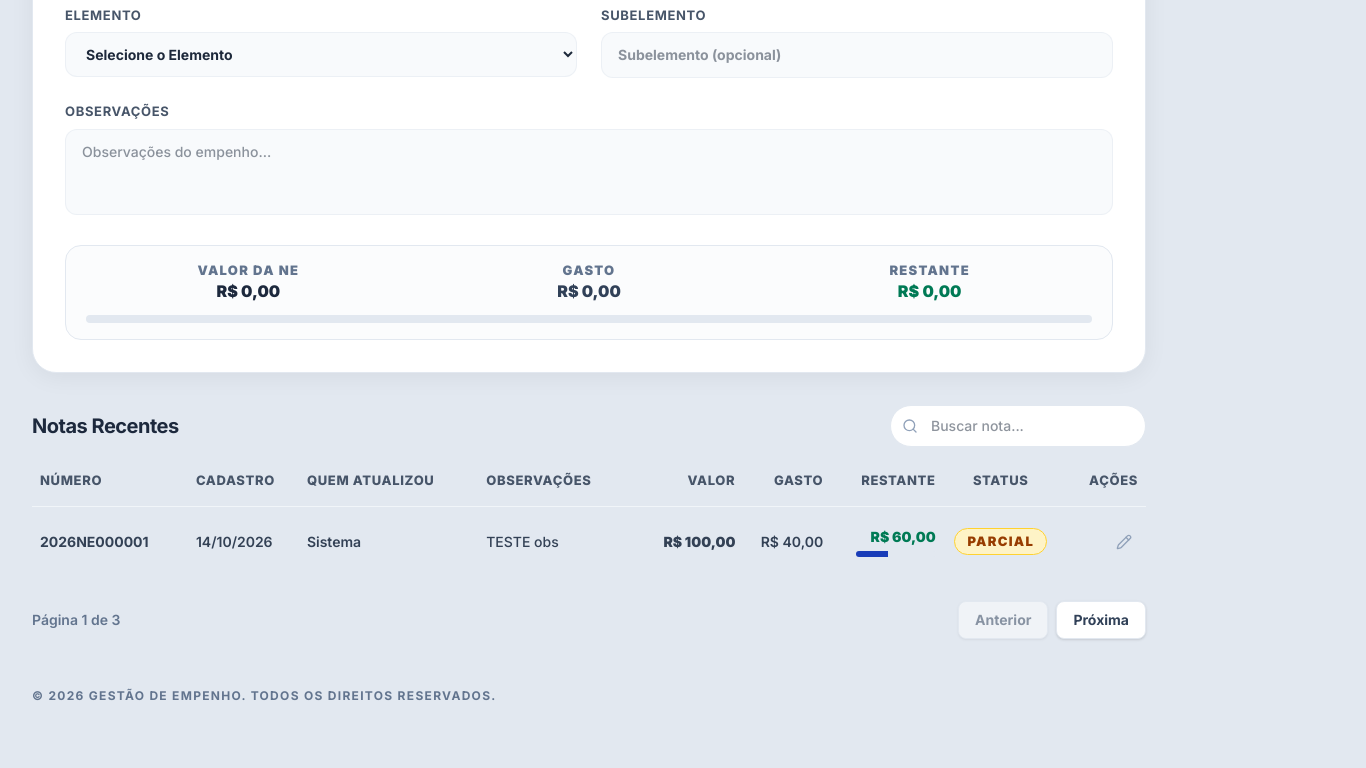
Test: Notas de Empenho — revisão da aba 3 › N1: "Cancelar NE" pede confirmação; "Voltar" não cancela
This screenshot has width=1366, height=768.
(page scrolled)
Click the button titled "Editar".
click(1124, 542)  # box [1110,528,1138,556]
(page scrolled)
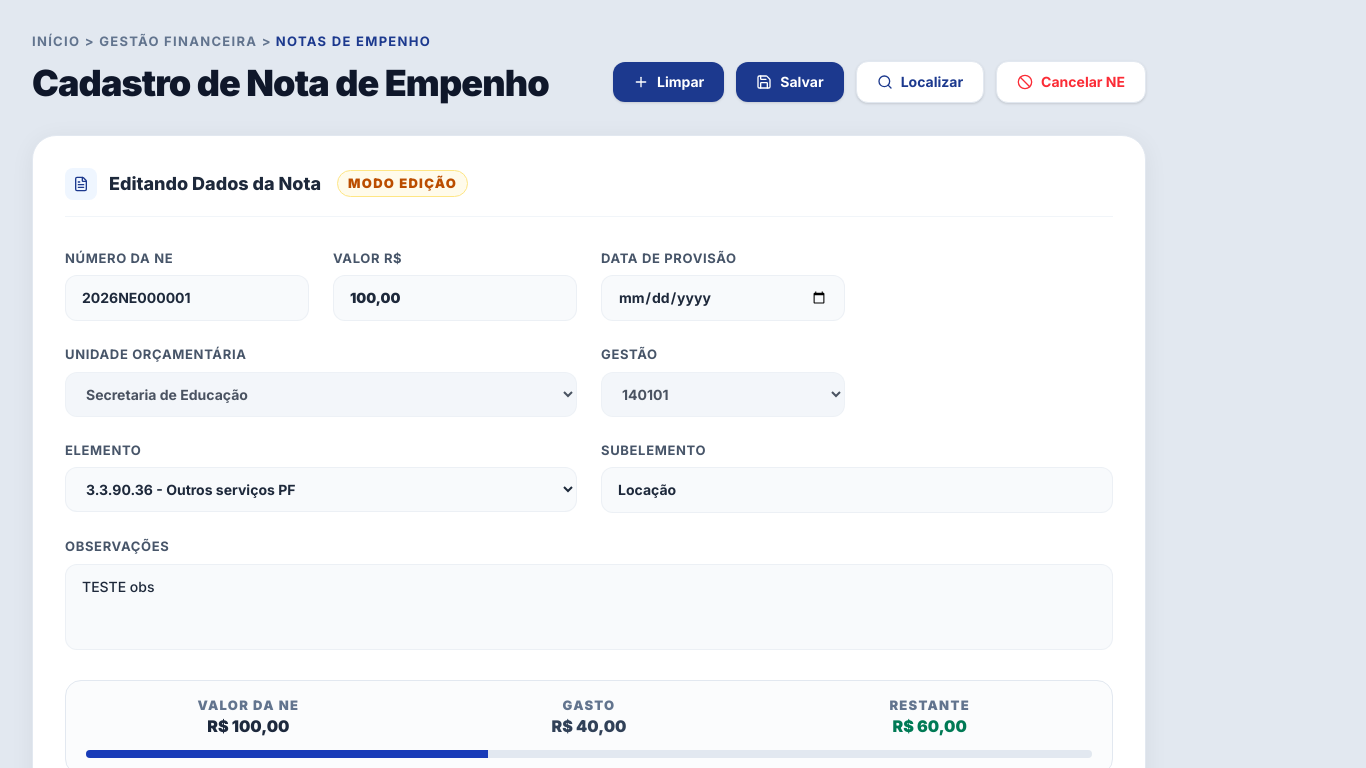
Click the button "Cancelar NE".
click(1071, 82)  # box [996,61,1146,103]
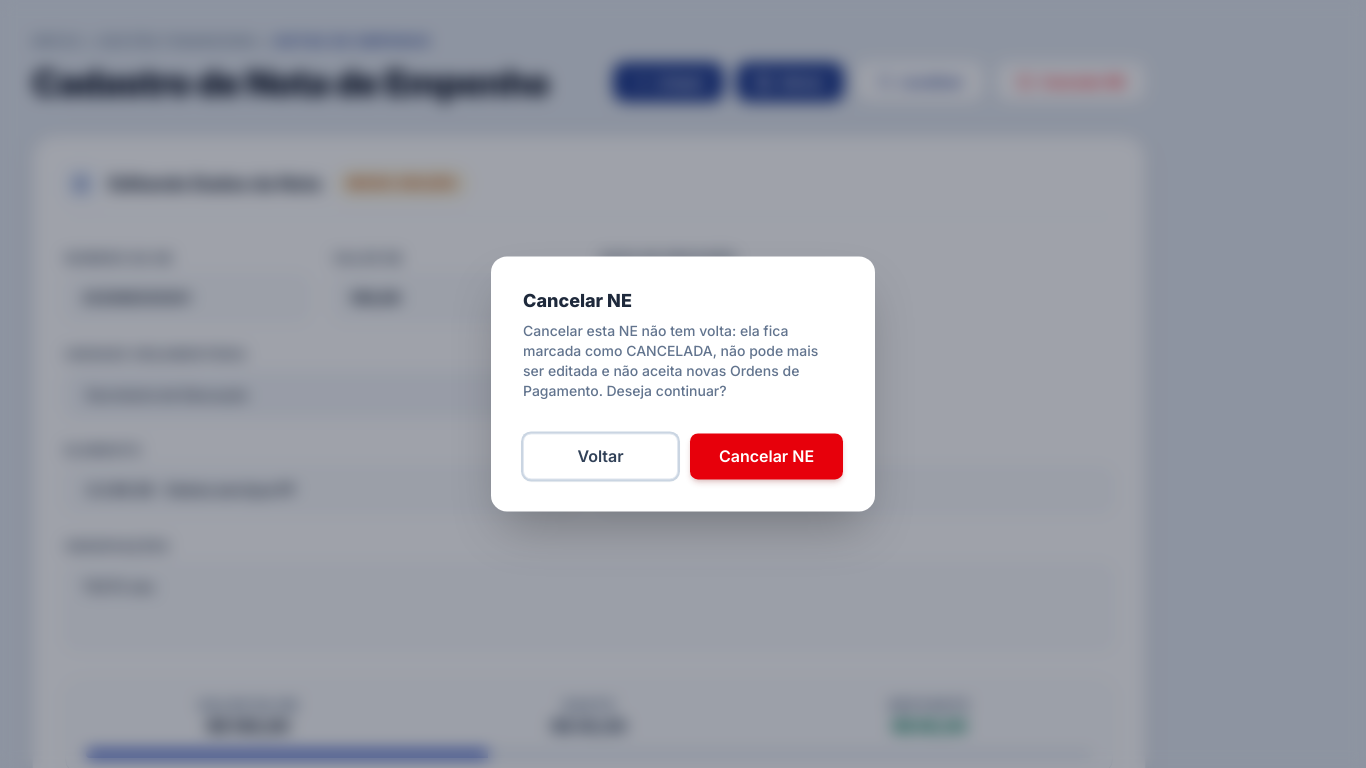
Now the dialog shows "não tem volta", box [523,323,818,400]
Click the button "Voltar".
click(600, 457)  # box [523,434,678,480]
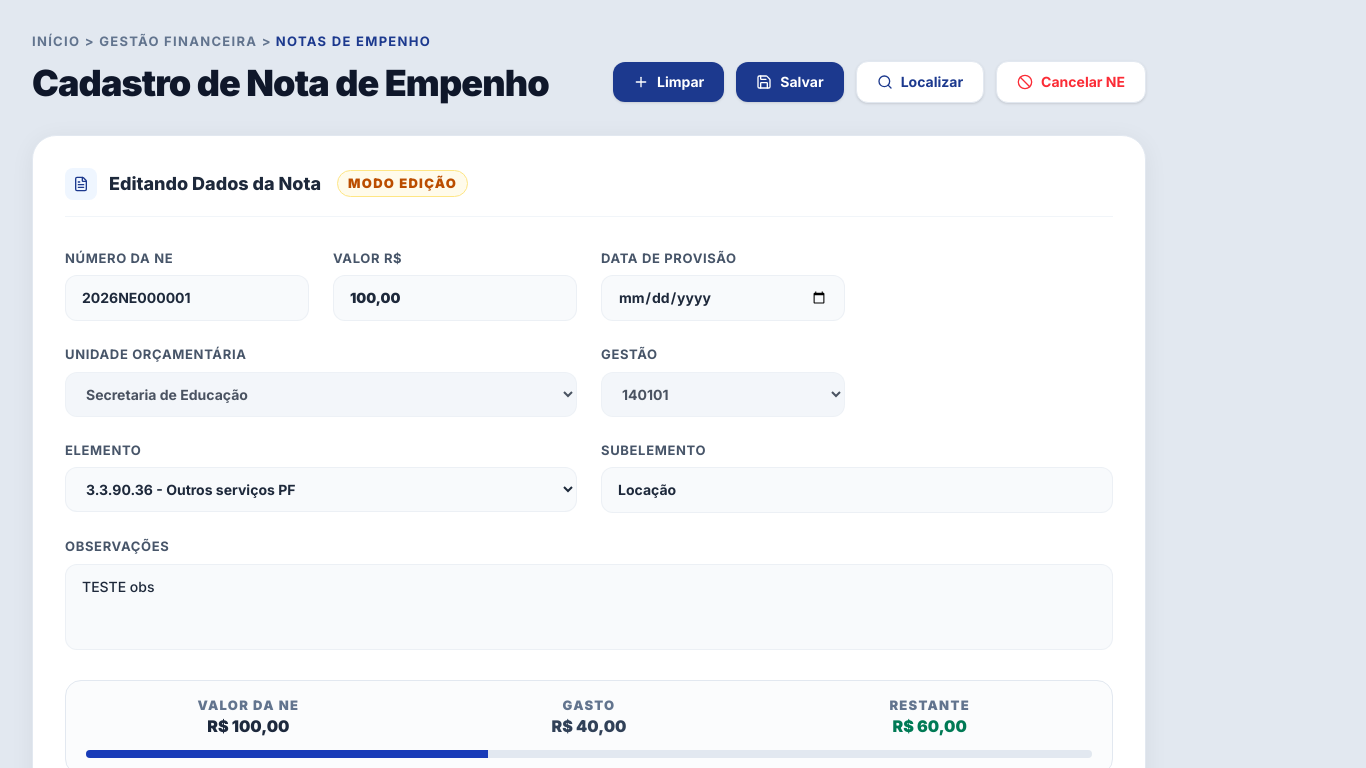
Now the dialog is gone
